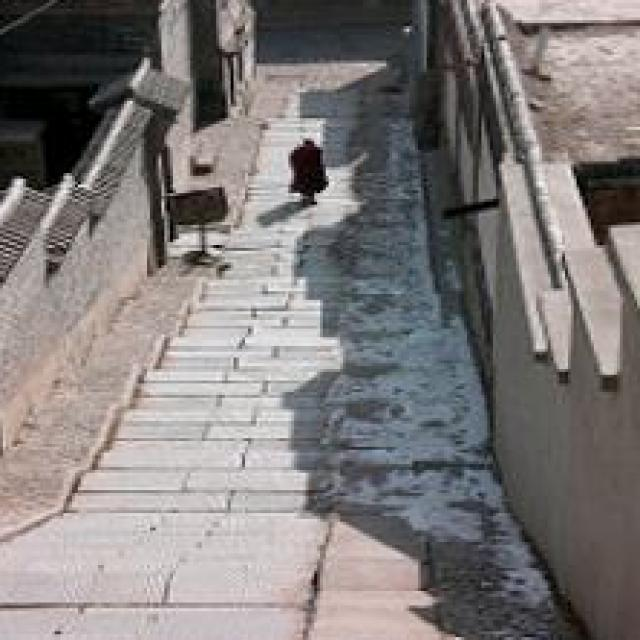downstair: (76, 304, 494, 557)
